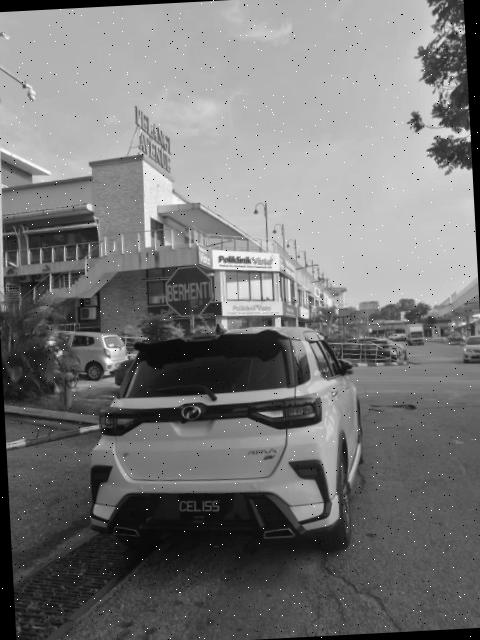License_Plate: (169, 493, 236, 521)
car: (69, 321, 371, 575)
